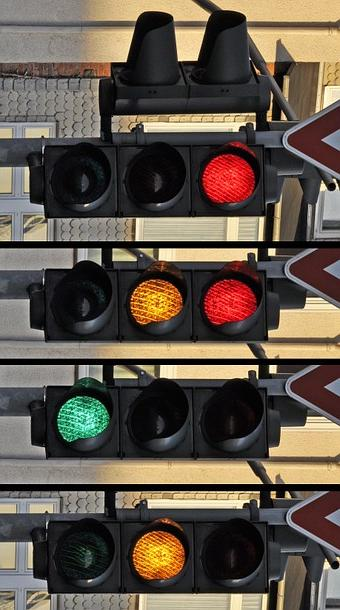trafic: (38, 379, 269, 462), (37, 144, 265, 216), (39, 264, 267, 336), (37, 516, 265, 588)
